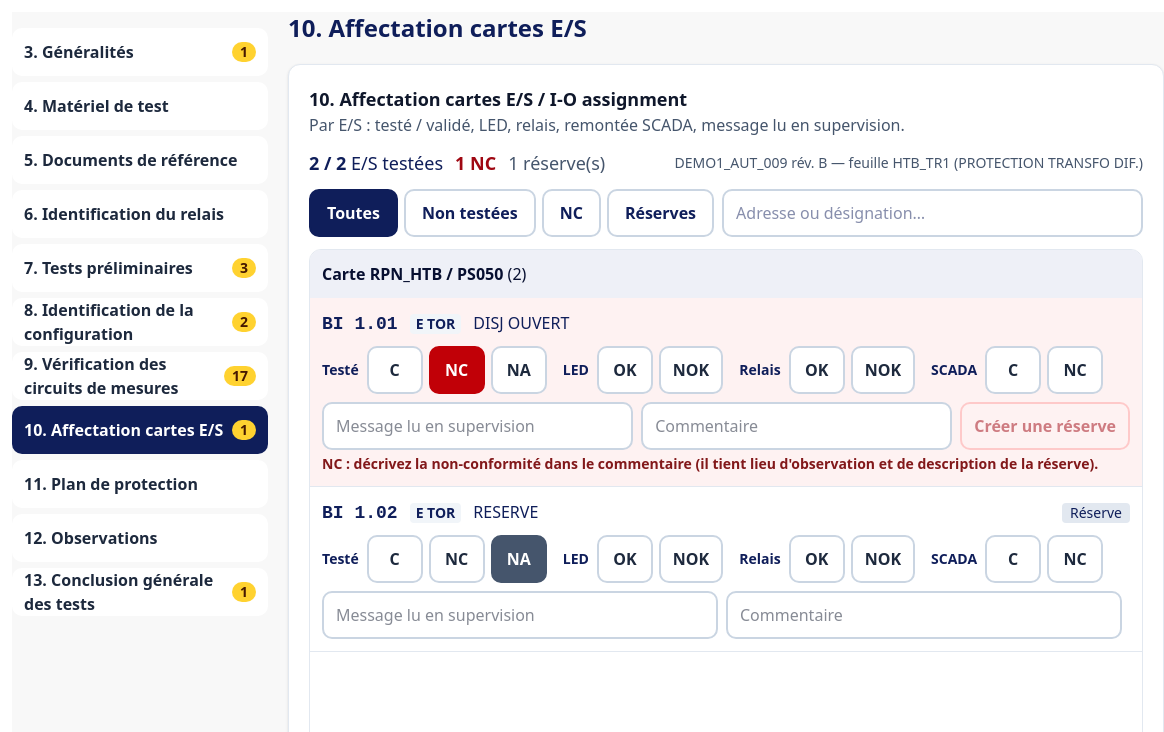
Test: liste des E/S › E/S NC sans commentaire : pas de réserve en un geste, le commentaire est demandé
The image size is (1164, 732).
Later steps or results of the test are not shown.
Expected: the button "Créer une réserve" is disabled, [960, 402, 1130, 450]
Expected: the text "décrivez la non-conformité dans le commentaire" is shown, [322, 454, 1098, 473]
Type "Pas de remontée" into the field named "BI 1.01 commentaire" at (797, 426), box [641, 402, 952, 450]
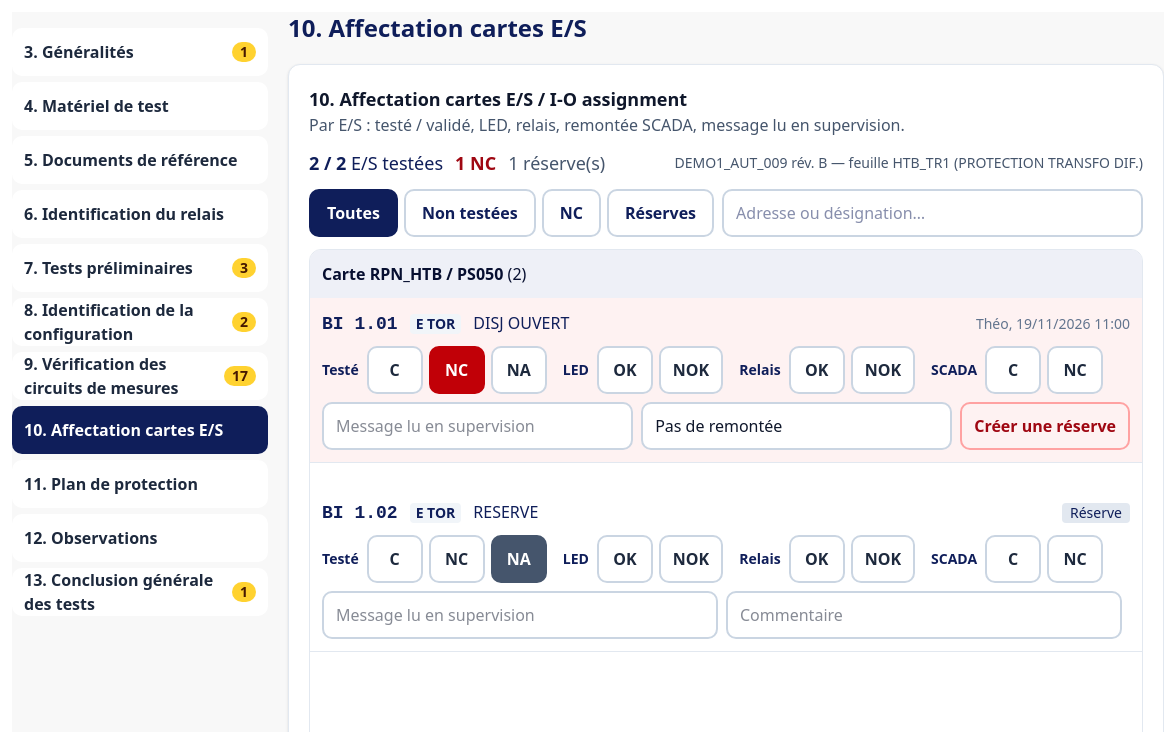
Result: the button "Créer une réserve" is enabled at [960, 402, 1130, 450]
